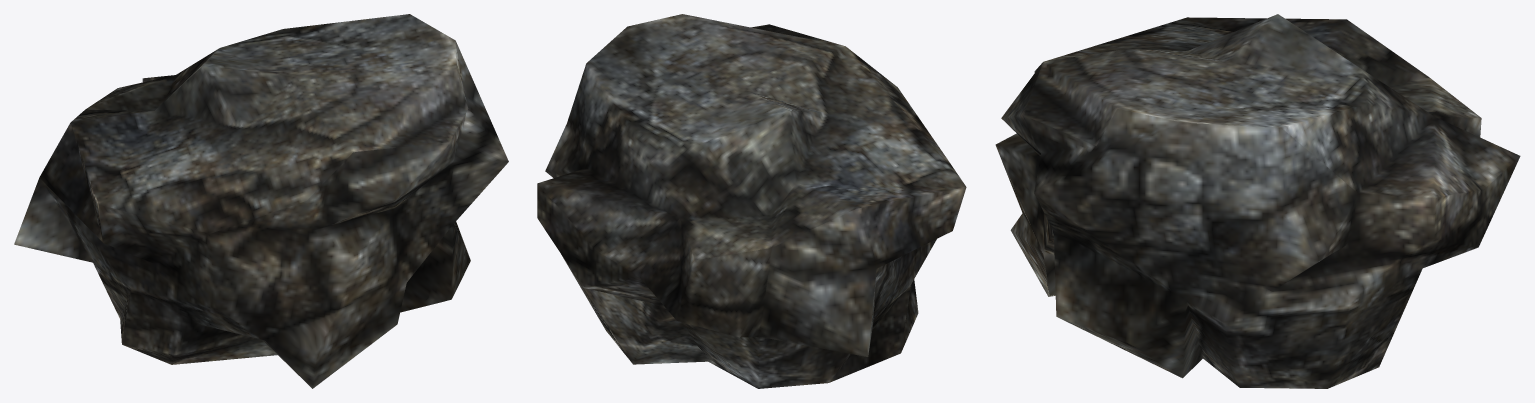
File: Rock5_LOD1.fbx
3 views of the same model, side by side, from view 1: azimuth 30°, elevation 25°; view 2: azimuth 150°, elevation 25°; view 3: azimuth 270°, elevation 25° (orthographic). The views are drawn at different scales.
Visible parts, largest first — view 1: Rock5_Group65355; view 2: Rock5_Group65355; view 3: Rock5_Group65355.
Boxes of the visible parts, x1,y1,x2,y2 form: Rock5_Group65355: [14, 14, 508, 388]; Rock5_Group65355: [537, 14, 966, 388]; Rock5_Group65355: [995, 14, 1520, 388].
Bounding box in the file's own units: 3.14 × 2.08 × 3.32.
